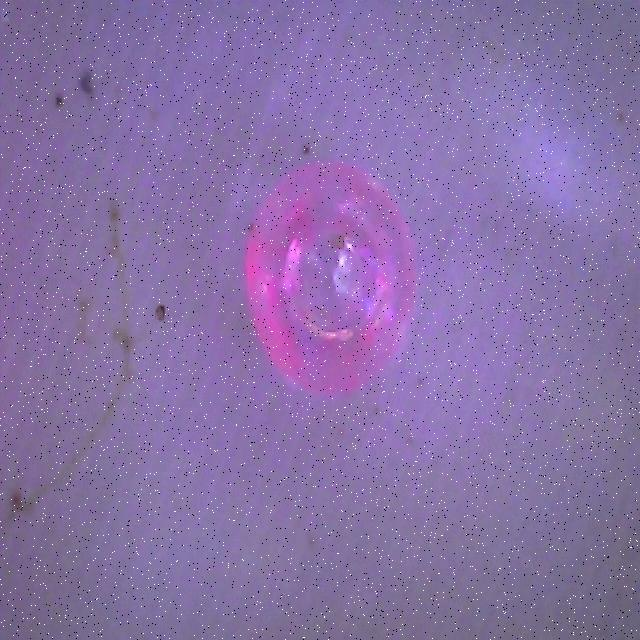beads: (247, 163, 415, 394)
